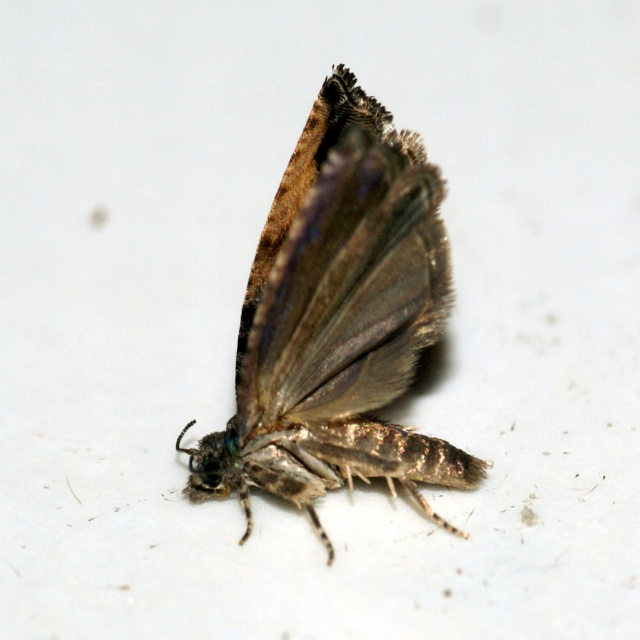Butterfly: (161, 82, 477, 570)
